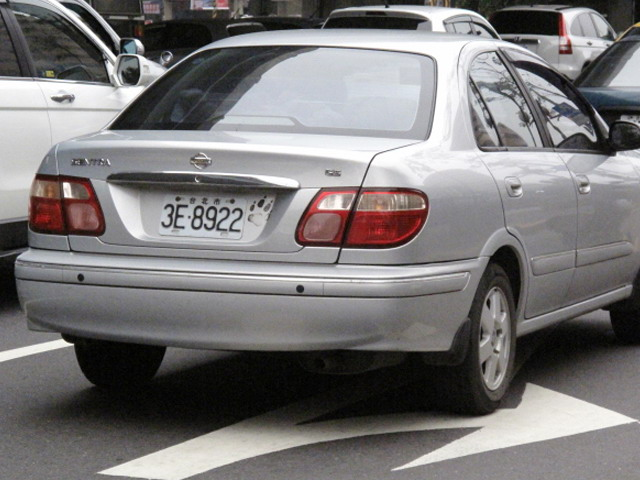plate: (157, 193, 245, 240)
